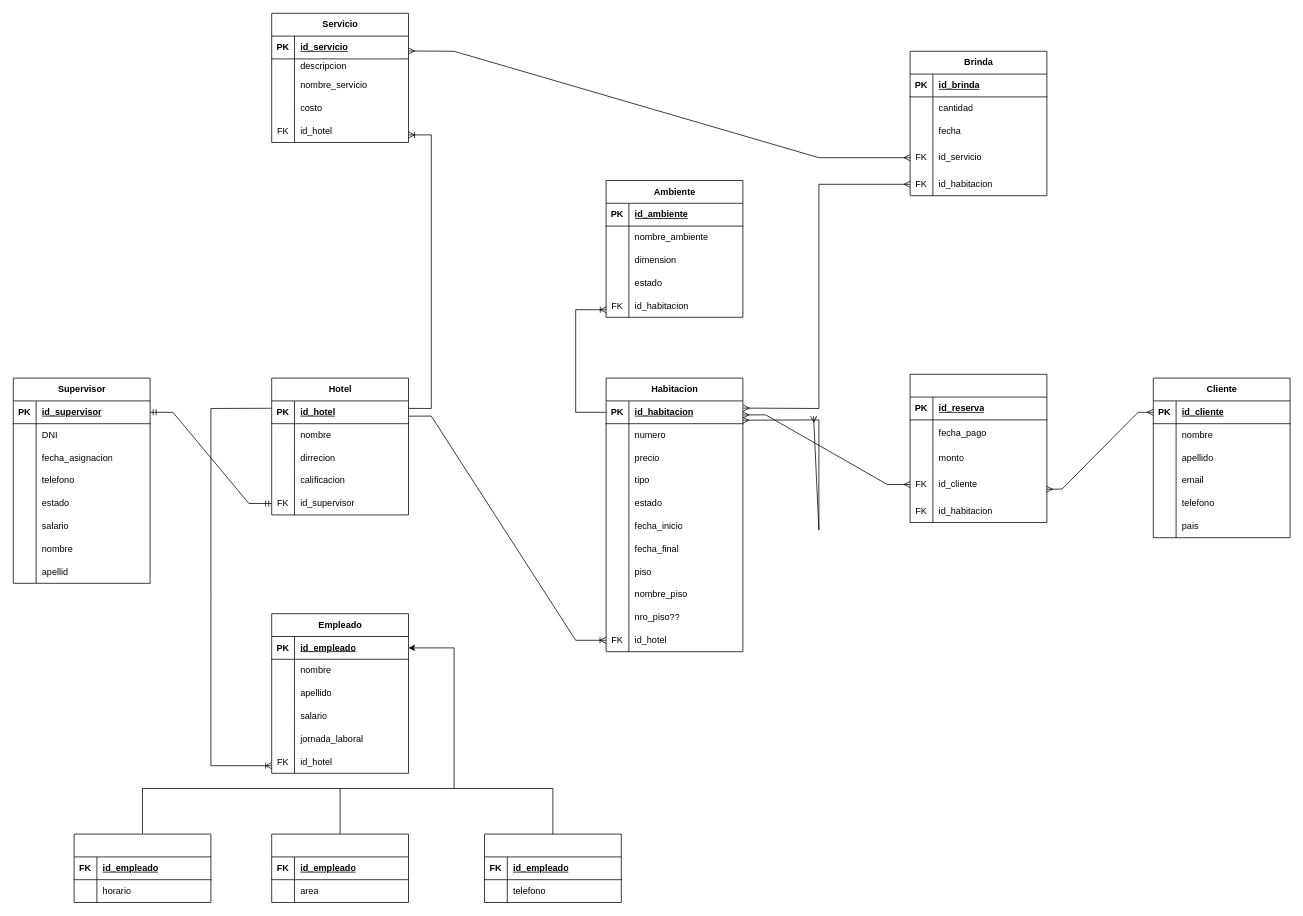
The diagram is 1303 pixels wide and 916 high, and some of its shapes have lost their labels. Here are the shapes that lost their labels. From the top down, the box of each, then its label:
(909, 374, 1047, 522): Reservan
(73, 833, 211, 902): Seguridad
(271, 833, 408, 902): Limpieza
(484, 833, 621, 902): Gerente
